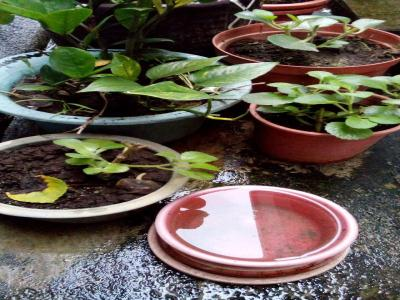plate: (144, 182, 363, 286)
